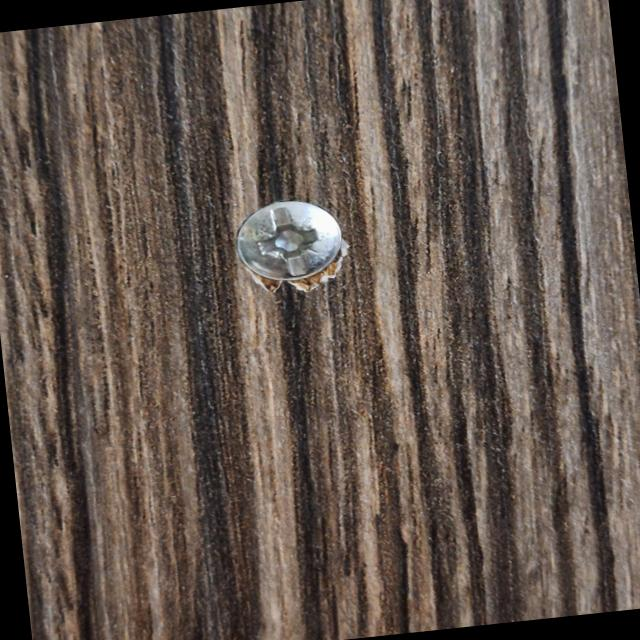Phillips: (222, 190, 350, 292)
